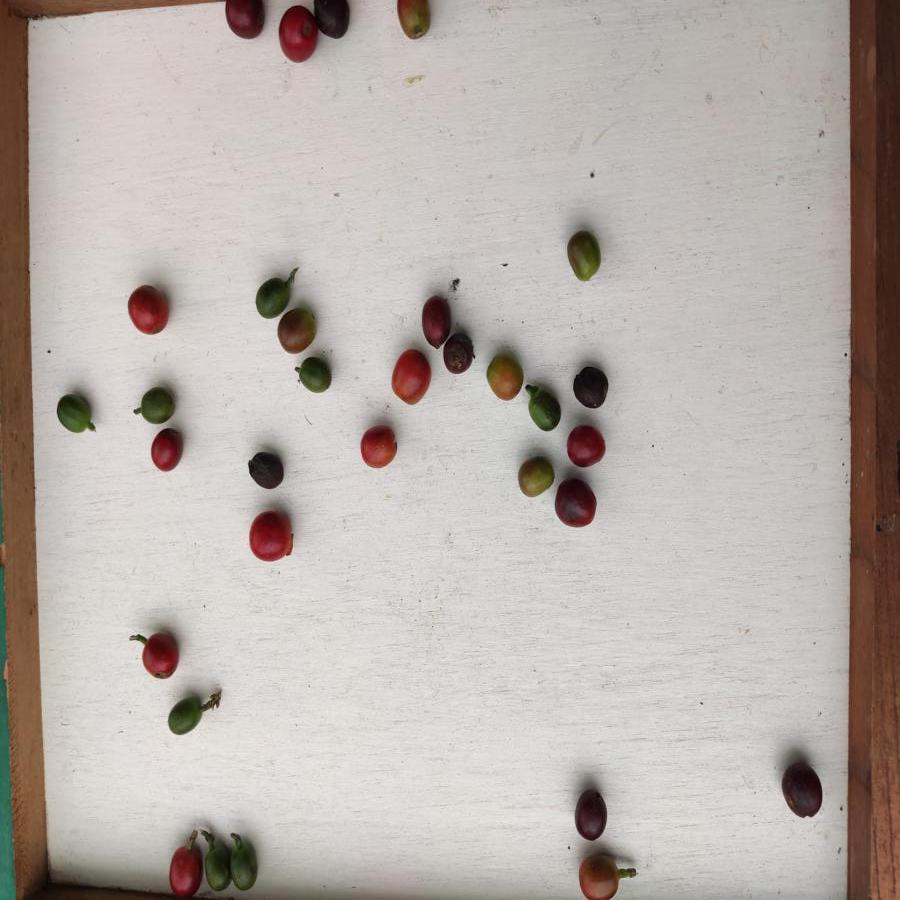Inmaduro: (53, 390, 98, 434), (525, 383, 562, 433), (136, 385, 179, 425), (205, 842, 238, 893), (166, 695, 204, 739), (294, 356, 334, 397), (230, 842, 259, 892), (253, 278, 290, 317)
Maduro: (245, 508, 296, 565), (126, 282, 175, 340), (275, 3, 319, 62), (389, 349, 431, 401), (137, 631, 179, 682), (563, 423, 607, 471), (360, 426, 400, 471), (168, 845, 202, 896), (149, 427, 184, 469)
Pinton: (577, 853, 621, 900), (564, 231, 604, 280), (277, 307, 318, 352), (484, 353, 521, 401), (393, 1, 431, 42), (517, 455, 553, 498)
Sobremaduro: (779, 761, 829, 817), (555, 476, 599, 531), (571, 788, 610, 840), (418, 293, 453, 348), (569, 365, 610, 410), (221, 1, 267, 39), (247, 450, 284, 489), (442, 331, 475, 374), (315, 1, 349, 40)
